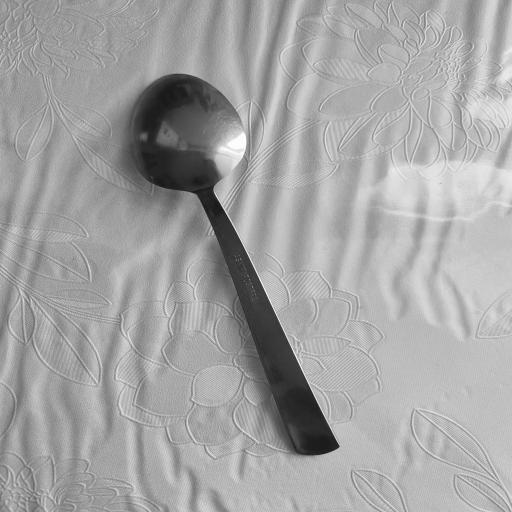spoon: (128, 68, 339, 456)
